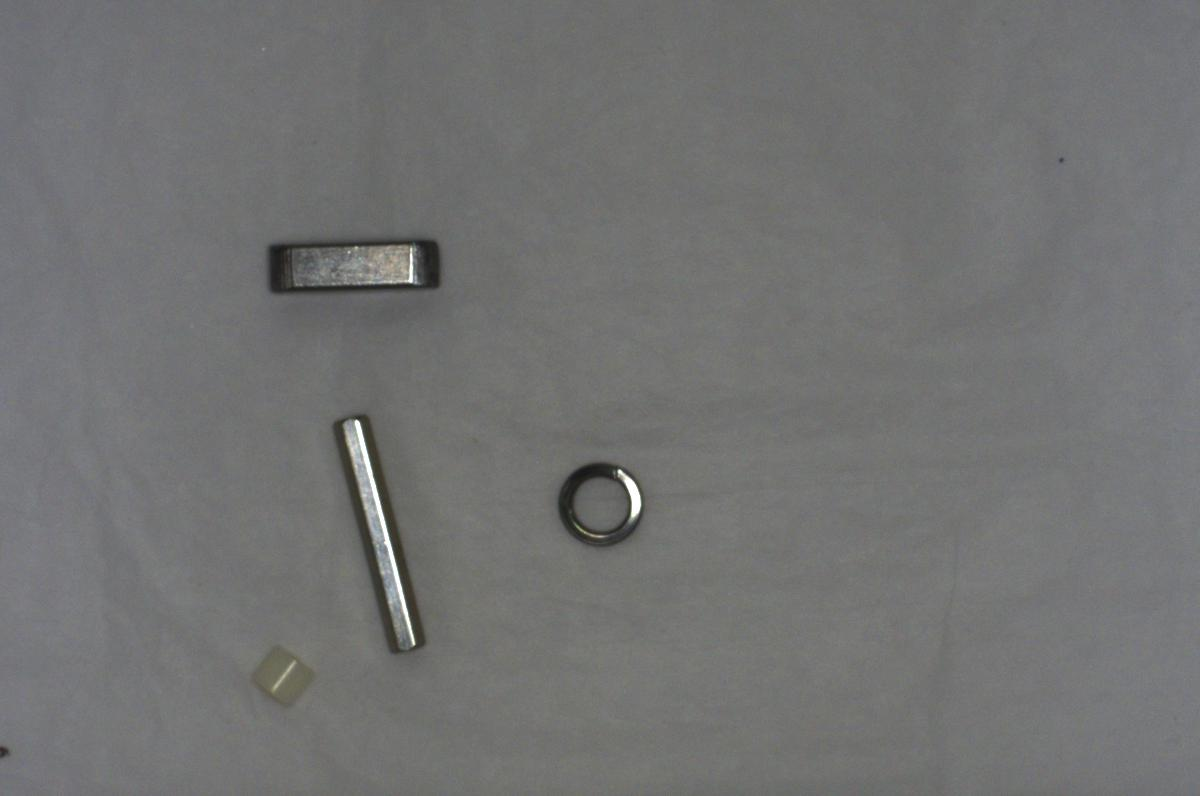Double hexagonal column: (326, 406, 430, 658)
Keybar: (257, 228, 444, 301)
Plastic cushion pillar: (239, 634, 332, 702)
Spring washer: (541, 456, 650, 555)
